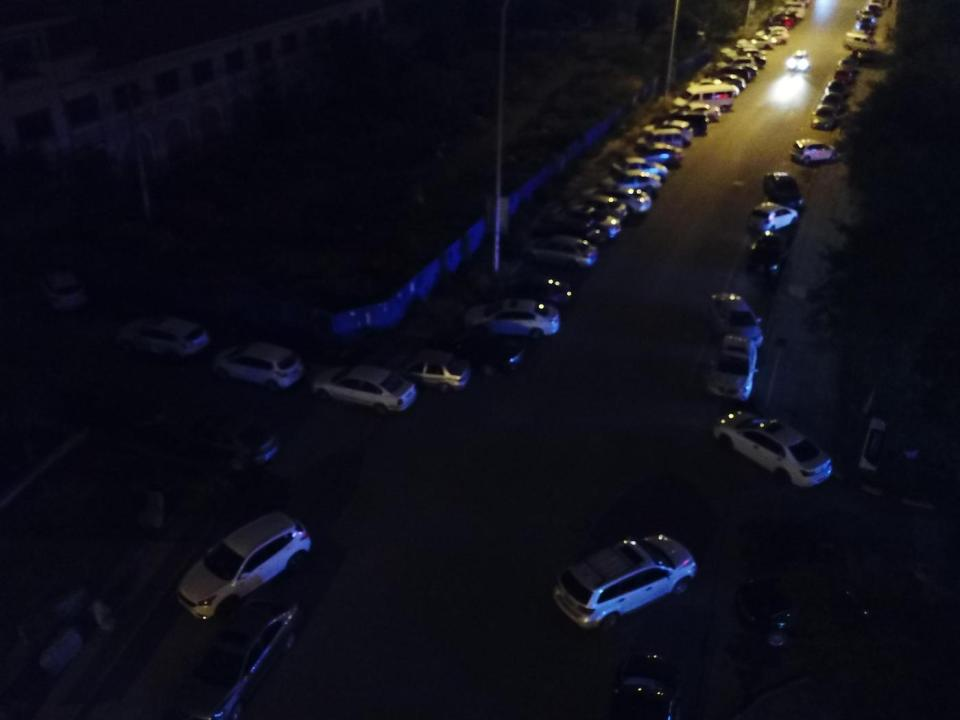car: (171, 593, 308, 720), (174, 506, 311, 620), (550, 529, 701, 631), (732, 568, 908, 652), (714, 408, 832, 496), (147, 400, 287, 470), (306, 356, 418, 415), (210, 338, 307, 391), (111, 310, 212, 360), (465, 292, 559, 344), (377, 345, 477, 391), (705, 331, 760, 402), (705, 287, 766, 349), (441, 330, 524, 373), (36, 258, 92, 314), (521, 232, 598, 272), (500, 275, 578, 311), (548, 202, 620, 240), (537, 215, 603, 251), (586, 185, 652, 220), (566, 194, 629, 227), (746, 230, 788, 278), (763, 169, 807, 214), (745, 199, 798, 234), (791, 136, 843, 168), (624, 142, 683, 170), (600, 171, 662, 197), (611, 158, 670, 184), (653, 112, 711, 138), (641, 120, 695, 145), (689, 77, 739, 101), (669, 99, 720, 122), (694, 75, 745, 96), (714, 57, 758, 79), (721, 42, 762, 64), (753, 26, 792, 47), (718, 64, 758, 84), (736, 35, 778, 54), (728, 52, 768, 71), (809, 103, 837, 129), (728, 48, 763, 68), (713, 66, 751, 84), (848, 45, 874, 67), (819, 90, 845, 111), (787, 51, 812, 72), (823, 78, 847, 98), (769, 14, 797, 30), (831, 68, 854, 86), (782, 4, 806, 18), (856, 16, 876, 32), (854, 7, 875, 22), (838, 57, 858, 72), (867, 2, 882, 14)
van: (676, 86, 732, 112), (635, 130, 684, 152), (843, 31, 876, 55)
